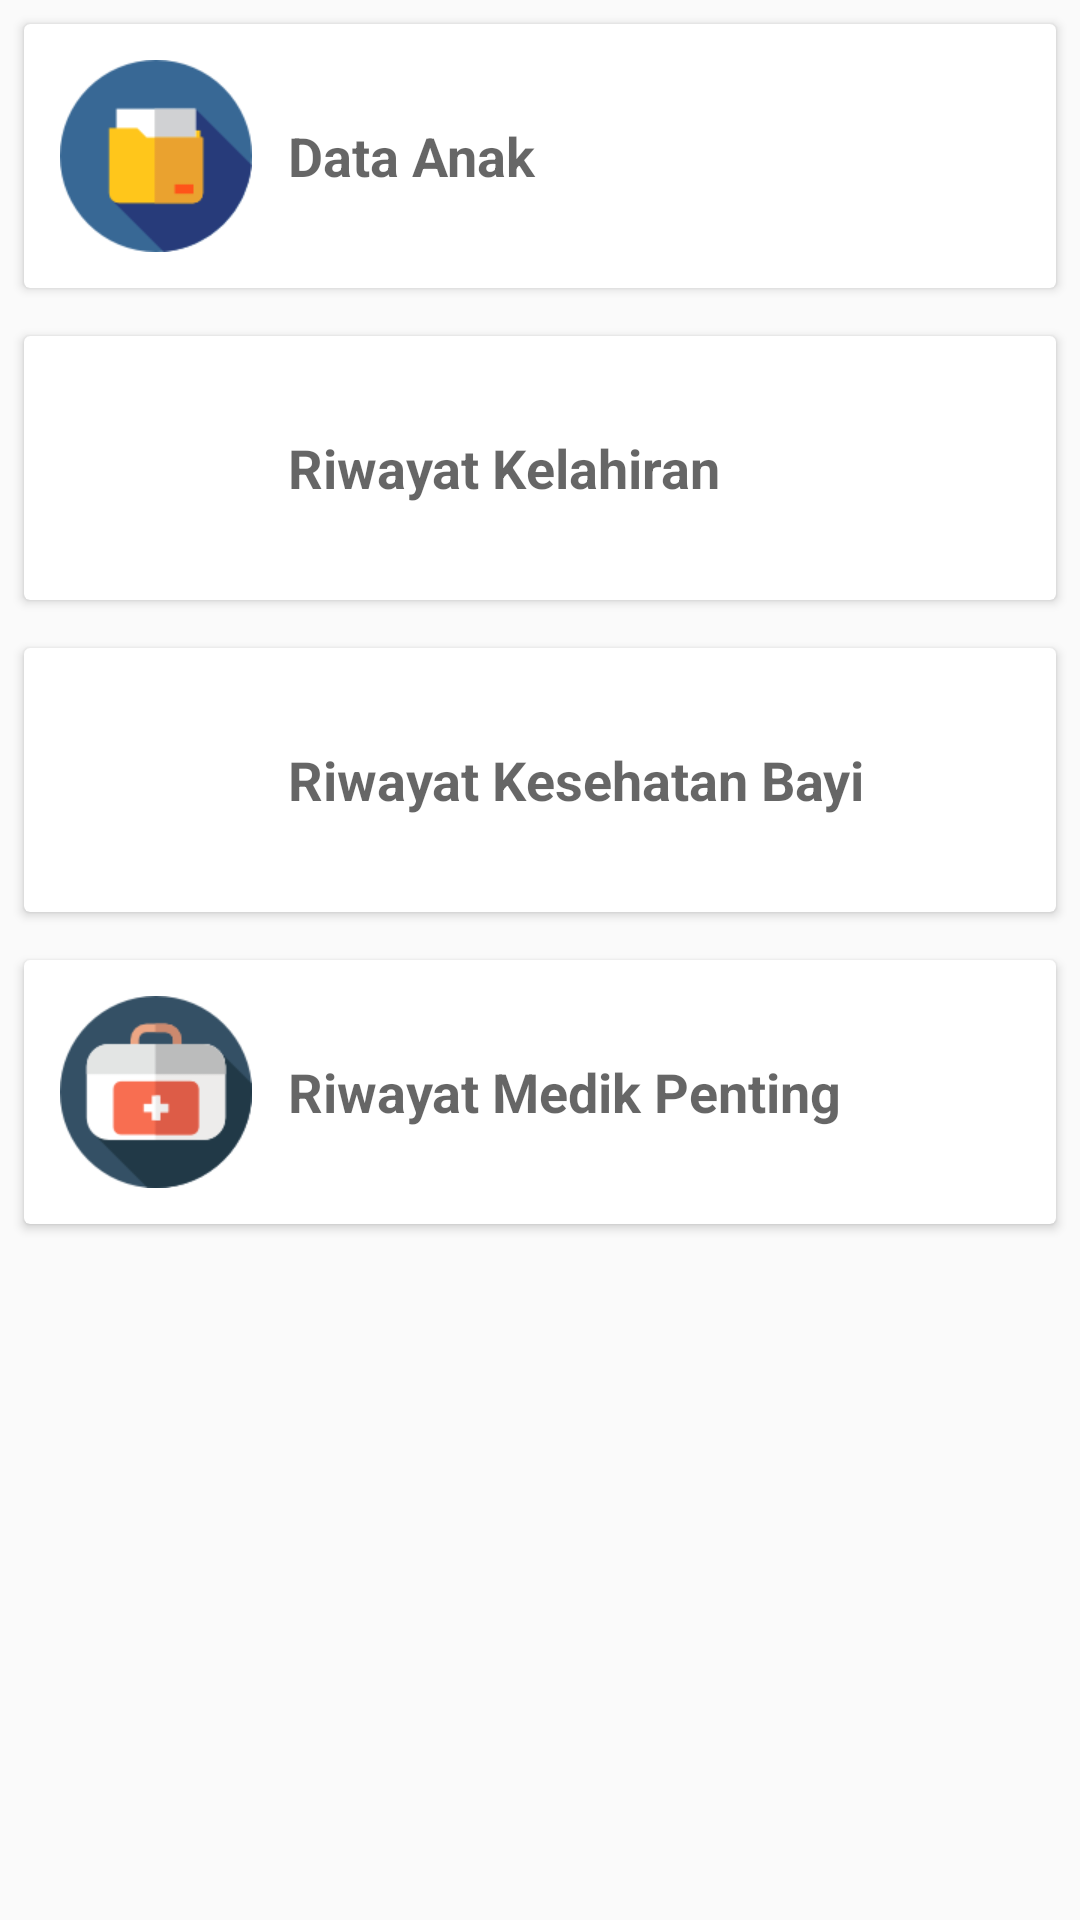

Locate icon controls on the screen. Image size 1080 × 1920, boxes as (x1,y1,x2,y2).
medical: (60,996,252,1188)
